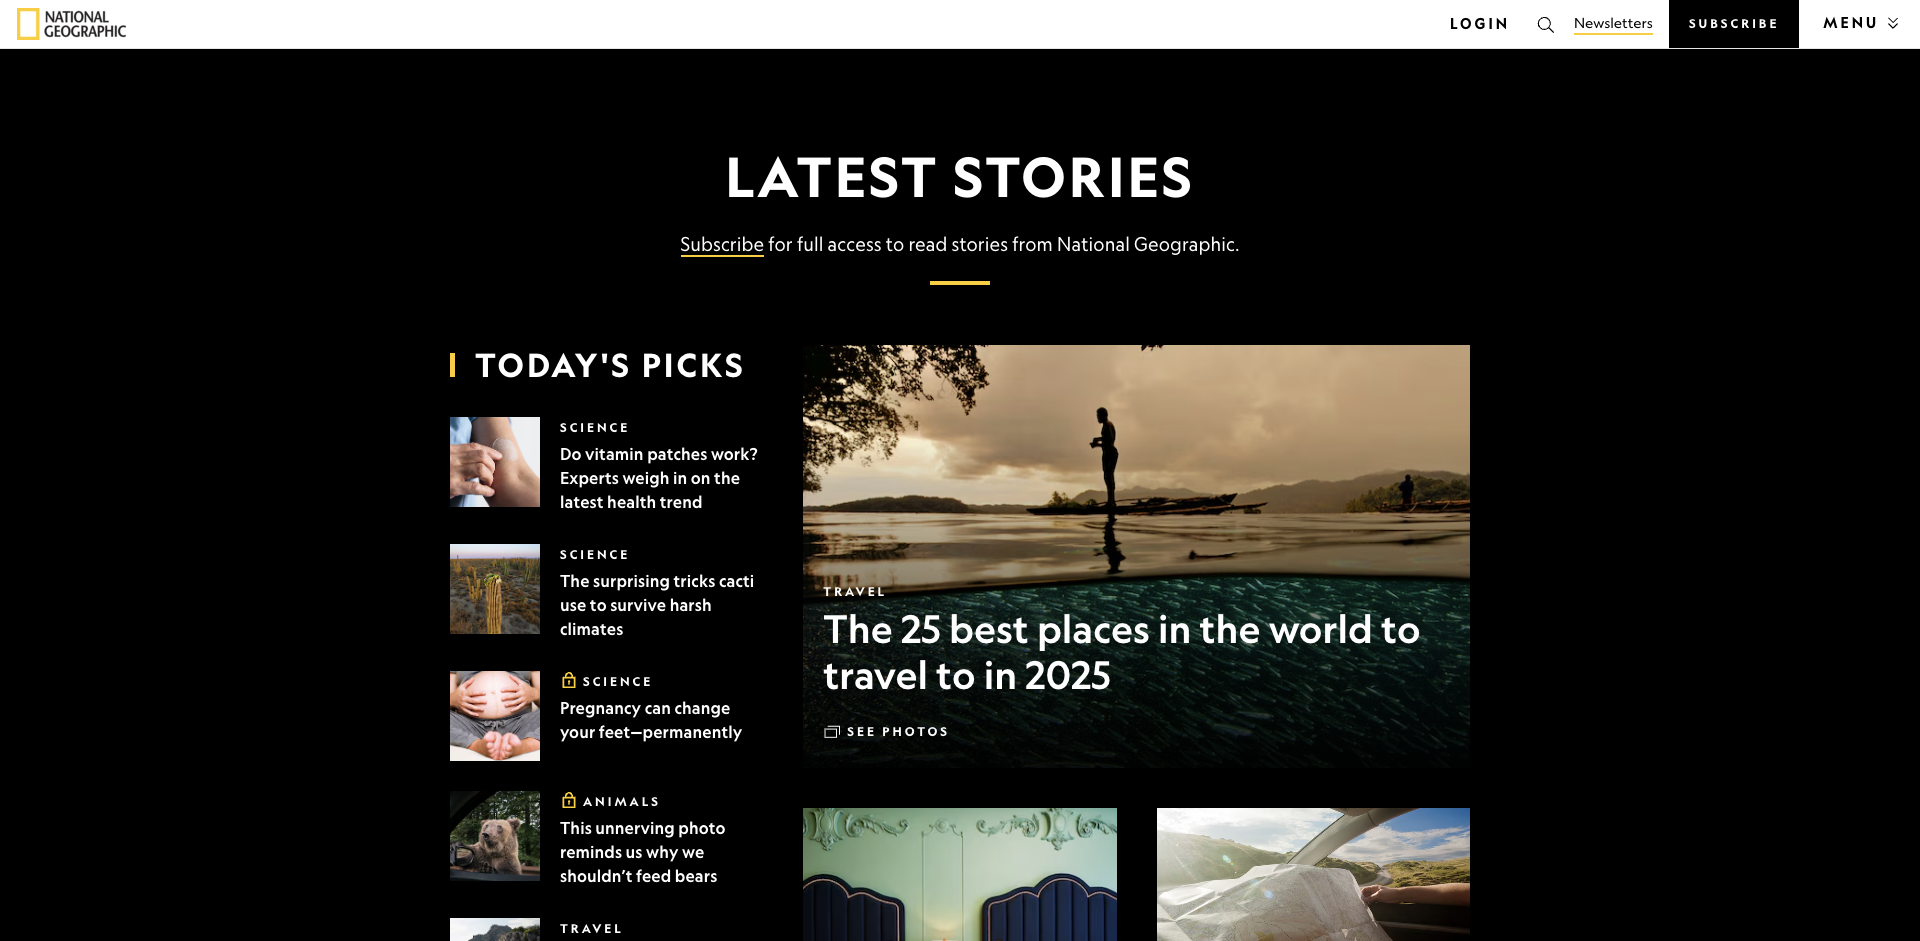button: (1669, 0, 1799, 48), (823, 716, 950, 747), (156, 13, 309, 34), (1816, 7, 1903, 39), (1442, 9, 1518, 40)
link: (803, 346, 1469, 768), (803, 807, 1117, 941), (1157, 807, 1469, 941), (451, 417, 763, 515), (451, 544, 763, 641), (451, 792, 763, 888), (451, 671, 763, 761), (451, 918, 763, 941), (17, 9, 126, 40), (681, 233, 764, 257), (1573, 13, 1653, 36), (583, 794, 661, 809), (560, 546, 631, 562), (560, 420, 631, 435), (583, 674, 653, 689), (560, 921, 623, 936), (823, 584, 887, 599), (1534, 13, 1558, 37)
